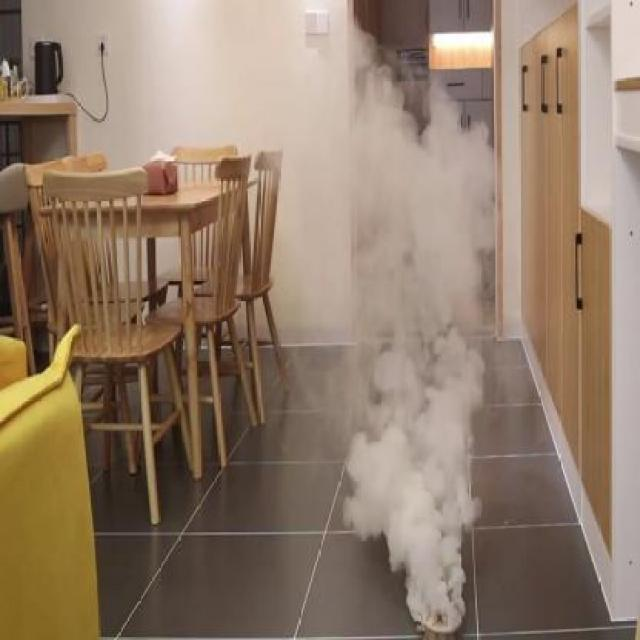fire: (324, 214, 392, 400), (371, 426, 424, 631)
smoke: (202, 23, 380, 183)
